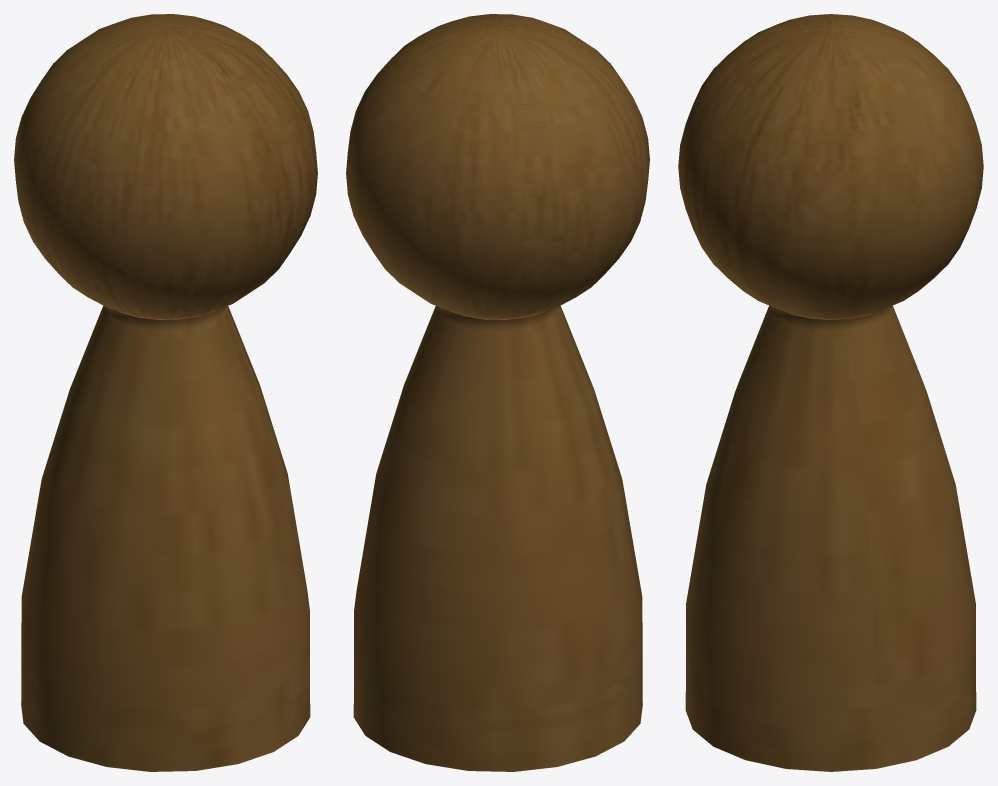
File: DarkPeon.fbx
The picture shows the model from 3 angles, left to right: view 1: azimuth 30°, elevation 25°; view 2: azimuth 150°, elevation 25°; view 3: azimuth 270°, elevation 25°; orthographic projection.
Visible parts, largest first — view 1: pSphere2; view 2: pSphere2; view 3: pSphere2.
Boxes of the visible parts, box(x1,y1,x2,y2) form: pSphere2: box(14, 14, 317, 771); pSphere2: box(346, 14, 649, 771); pSphere2: box(678, 14, 983, 771).
Size of the model in its own units: 3.36 by 8.27 by 3.36.
1 material, 1 textured.
